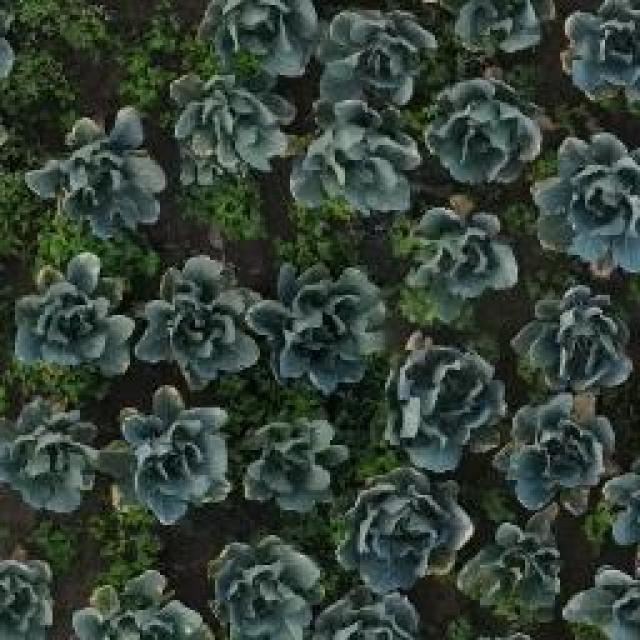cabbage: (378, 328, 504, 466), (340, 466, 471, 596), (262, 256, 388, 391), (31, 112, 165, 238), (108, 389, 232, 525), (535, 128, 640, 280), (136, 256, 256, 384), (14, 251, 133, 379), (288, 108, 420, 220), (494, 394, 616, 514), (166, 73, 294, 185), (511, 285, 634, 401), (425, 73, 540, 189), (409, 199, 521, 313), (207, 534, 326, 640), (316, 7, 436, 108), (460, 507, 564, 623), (239, 412, 347, 514), (0, 402, 98, 512), (69, 567, 207, 640), (194, 0, 318, 75), (556, 0, 640, 110)
